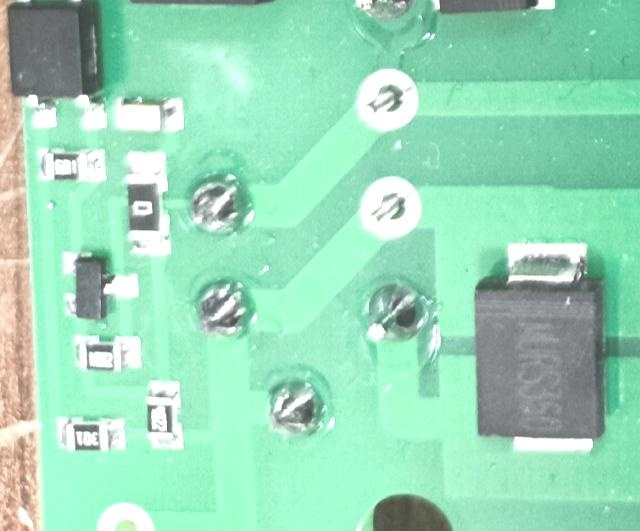chip-capacitor: (114, 97, 186, 134)
chip-resistor: (126, 149, 173, 258), (145, 377, 184, 452), (56, 414, 128, 452), (73, 332, 143, 371), (36, 145, 107, 183)
diode: (471, 240, 608, 455)
ic: (7, 0, 108, 131)
transistor: (60, 248, 141, 323)
